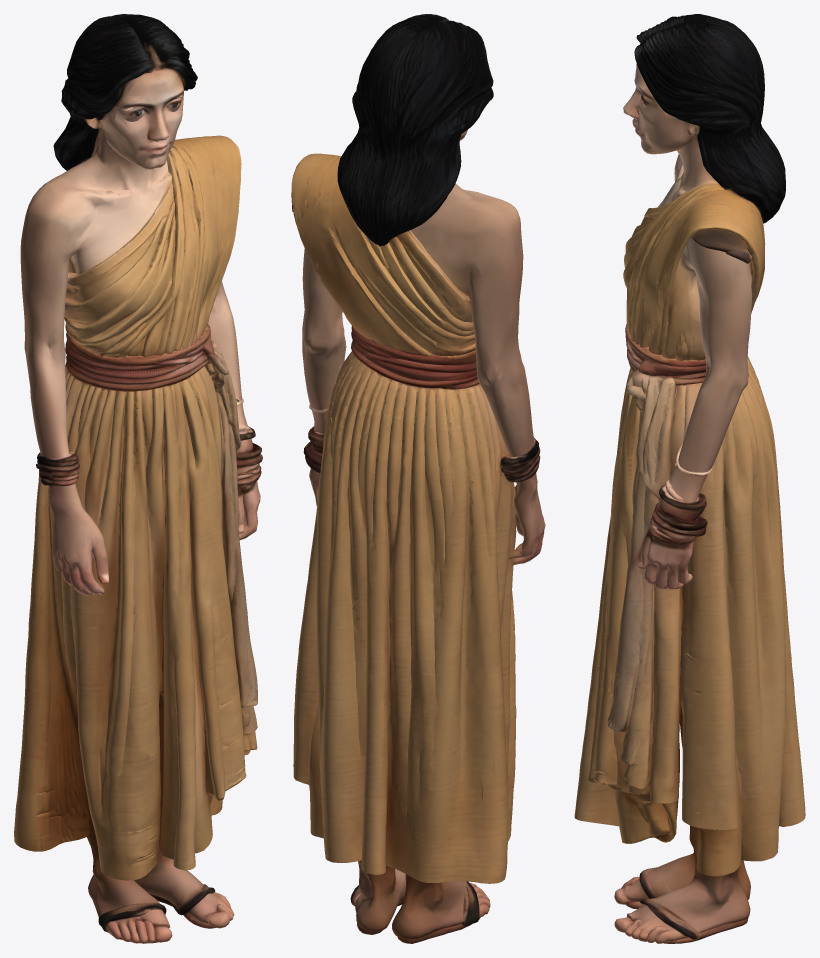
The model's file is crowd_teen_girl_rodin_source.glb.
3 renders of one model, left to right at view 1: azimuth 30°, elevation 25°; view 2: azimuth 150°, elevation 25°; view 3: azimuth 270°, elevation 25°, orthographic.
Parts seen in each view (by area): view 1: model; view 2: model; view 3: model.
Part boxes in pixels (x1,y1,x2,y2): model: (14, 14, 262, 943); model: (291, 14, 545, 943); model: (574, 14, 805, 943).
Size of the model in its own units: 0.4927 by 1.9 by 0.4481.
Materials: 1 (1 with a texture image).
